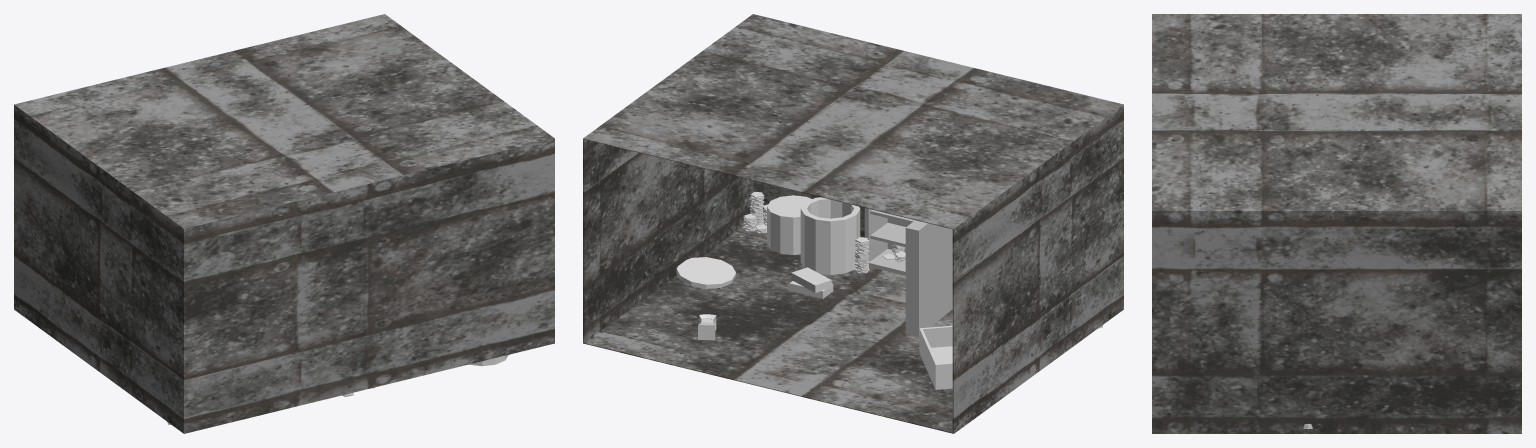
File: Level1ScencVault.fbx
3 renders of one model, left to right at view 1: azimuth 30°, elevation 25°; view 2: azimuth 150°, elevation 25°; view 3: azimuth 270°, elevation 25°, orthographic. The views are drawn at different scales.
Visible parts, largest first — view 1: Cube; view 2: Cube, Cube.002, Cylinder, Cube.001, Cylinder.009, Cube.008, Cylinder.001, Cube.011; view 3: Cube.
Part boxes in pixels (bbox=[...]): Cube: bbox=[14, 14, 554, 433]; Cube: bbox=[583, 14, 1123, 433]; Cube.002: bbox=[905, 220, 952, 336]; Cylinder: bbox=[800, 197, 860, 274]; Cube.001: bbox=[864, 208, 914, 275]; Cylinder.009: bbox=[767, 195, 811, 254]; Cube.008: bbox=[919, 325, 952, 389]; Cylinder.001: bbox=[676, 257, 735, 288]; Cube.011: bbox=[791, 267, 831, 292]; Cube: bbox=[1152, 14, 1521, 433].
Size of the model in its own units: 251 by 138 by 199.
